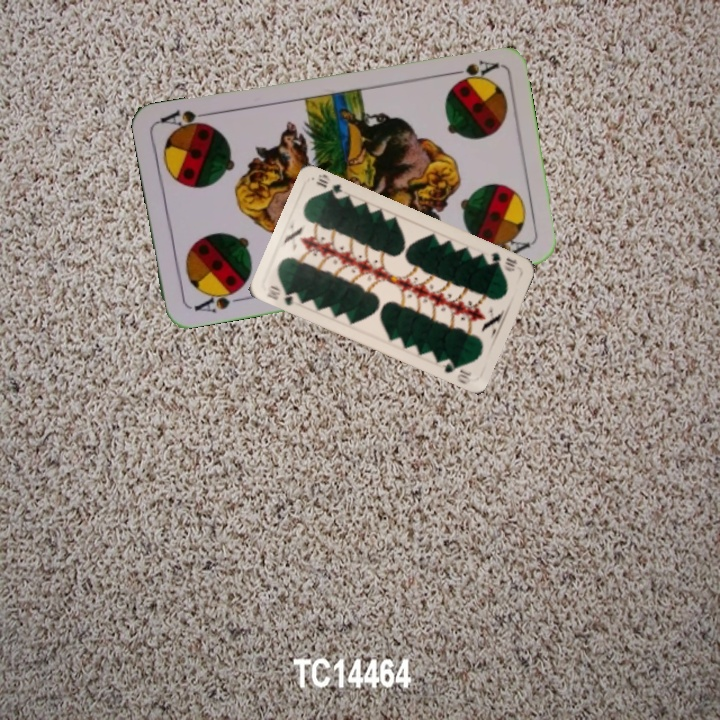G10: (262, 281, 303, 308), (487, 248, 520, 274)
SA: (190, 283, 247, 316), (442, 56, 501, 85)
